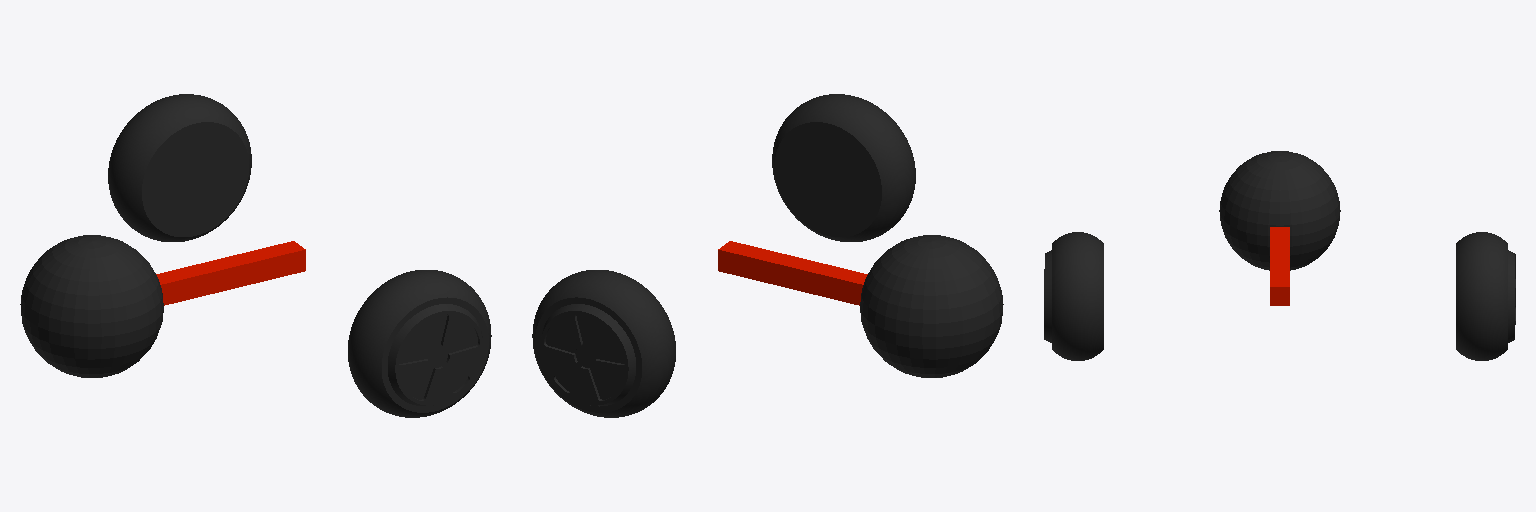
The robot description file, URDF, robot "hoverboard":
<robot name="hoverboard">
  <link name="base">
    <inertial>
      <origin rpy="0 0 0" xyz="0 0 0"/>
      <mass value="15.028392"/>
      <inertia ixx="0.0045" ixy="0" ixz="0" iyy="0.005" iyz="0" izz="0.0045" />
    </inertial>
    <visual>
    	<origin rpy="1.57 0 1.57" xyz="0 0 0"/>
      <geometry>
        <mesh filename="meshes/base.obj" scale="0.05 0.05 0.05"/>
        <!-- <box size="0.2 1.0 0.3"/> -->
      </geometry>
      <material name="scarlet">
        <color rgba="0.89 0.13 0.0 1"/>
      </material>
    </visual>
    <collision>
    	<origin rpy="1.57  0 1.57 " xyz="0 0 0"/>
      <geometry>
        <mesh filename="meshes/base.obj" scale="0.05 0.05 0.05"/>
        <!-- <box size="0.2 1.0 0.3"/> -->
      </geometry>
    </collision>
</link>

<link name="right_wheel">
    <inertial>
      <origin rpy="0 0 0" xyz="0 0 0"/>
      <mass value="4.028392"/>
      <inertia ixx="0.0045" ixy="0" ixz="0" iyy="0.005" iyz="0" izz="0.0045" />
    </inertial>
    <visual>
    	<origin rpy="1.57 0 1.57" xyz="0 0 0"/>
      <geometry>
        <mesh filename="meshes/wheel.stl" scale="0.05 0.05 0.05"/>
         <!-- <cylinder radius="0.2" length="0.1"/> -->
      </geometry>
      <material name="black">
        <color rgba="0.2 0.2 0.2 1"/>
      </material>
    </visual>
    <collision>
    	<origin rpy="1.57  0 1.57 " xyz="0 0 0"/>
      <geometry>
        <mesh filename="meshes/wheel.stl" scale="0.05 0.05 0.05"/>
        <!-- <cylinder radius="0.2" length="0.1"/> -->
      </geometry>
    </collision>
</link>

<joint name="wheelr_to_base" type="continuous">
	<origin rpy="0 0 3.14159265359" xyz="0 0 0"/>
    <axis xyz="0 1 0"/>
    <parent link="base"/>
    <child link="right_wheel"/>
    <limit effort="8.85" velocity="34.8" />
</joint>

<link name="left_wheel">
    <inertial>
      <origin rpy="0 0 0" xyz="0 0 0"/>
      <mass value="4.028392"/>
      <inertia ixx="0.0045" ixy="0" ixz="0" iyy="0.005" iyz="0" izz="0.0045" />
    </inertial>
    <visual>
    	<origin rpy="1.57 0 1.57" xyz="0 0 0"/>
      <geometry>
        <mesh filename="meshes/wheel.stl" scale="0.05 0.05 0.05"/>
         <!-- <cylinder radius="0.2" length="0.1"/> -->
      </geometry>
      <material name="black">
        <color rgba="0.2 0.2 0.2 1"/>
      </material>
    </visual>
    <collision>
    	<origin rpy="1.57  0 1.57 " xyz="0 0 0"/>
      <geometry>
        <mesh filename="meshes/wheel.stl" scale="0.05 0.05 0.05"/>
        <!-- <cylinder radius="0.2" length="0.1"/> -->
      </geometry>
    </collision>
</link>

<joint name="wheell_to_base" type="continuous">
	<origin rpy="0 0 0" xyz="0 1.0 0"/>
    <axis xyz="0 1 0"/>
    <parent link="base"/>
    <child link="left_wheel"/>
    <limit effort="8.85" velocity="34.8" />
</joint>

<link name="balance">
    <inertial>
      <origin rpy="0 0 0" xyz="0 0 0"/>
      <mass value="14.028392"/>
      <inertia ixx="0.0045" ixy="0" ixz="0" iyy="0.005" iyz="0" izz="0.0045" />
    </inertial>
    <visual>
    	<origin rpy="0 0 0" xyz="0 0 0"/>
      <geometry>
        <box size="0.5 0.05 0.05"/>
      </geometry>
      <material name="scarlet">
      </material>
    </visual>
    <collision>
    	<origin rpy="0 0 0 " xyz="0 0 0"/>
      <geometry>
        <box size="0.5 0.05 0.05"/>
      </geometry>
    </collision>
</link>

<joint name="balance_to_base" type="fixed">
	<origin rpy="0 0 0" xyz="-0.25 0.5 0"/>
	    <!-- <axis xyz="1 1 1"/> -->
    <parent link="base"/>
    <child link="balance"/>
</joint>

<link name="third_wheel">
    <inertial>
      <origin rpy="0 0 0" xyz="0 0 0"/>
      <mass value="4.028392"/>
      <inertia ixx="0.0045" ixy="0" ixz="0" iyy="0.005" iyz="0" izz="0.0045" />
    </inertial>
    <visual>
    	<origin rpy="0 0 0" xyz="0 0 0"/>
      <geometry>
        <!-- <mesh filename="meshes/wheel.stl" scale="0.05 0.05 0.05"/> -->
         <sphere radius="0.15"/>
      </geometry>
      <material name="black">
        <color rgba="0.2 0.2 0.2 1"/>
      </material>
    </visual>
    <collision>
    	<origin rpy="0 0 0" xyz="0 0 0"/>
      <geometry>
        <!-- <mesh filename="meshes/wheel.stl" scale="0.05 0.05 0.05"/> -->
        <sphere radius="0.15"/>
      </geometry>
    </collision>
</link>

<joint name="twheel_to_balance" type="fixed">
	<origin rpy="0 0 0" xyz="-0.25 0.0 0"/>
    <axis xyz="0 1 0"/>
    <parent link="balance"/>
    <child link="third_wheel"/>
    <!-- <limit effort="8.85" velocity="34.8" /> -->
    <!-- <limit effort="1.4" lower="-1.0472" upper="1.0472" velocity="12.15"/> -->
</joint>
</robot>

--- Facts derived from the render (not from the file) ---
Views: 3 orthographic renders of the robot side by side, from view 1: azimuth 30°, elevation 25°; view 2: azimuth 150°, elevation 25°; view 3: azimuth 270°, elevation 25°.
Robot: hoverboard — 5 links, 4 joints (2 continuous, 2 fixed); root link base; default pose: every joint at zero.
Links seen in each view (by area): view 1: left_wheel, right_wheel, third_wheel, balance; view 2: right_wheel, left_wheel, third_wheel, balance; view 3: third_wheel, left_wheel, right_wheel, balance.
Link boxes in pixels (x1,y1,x2,y2): left_wheel: [108, 94, 251, 241]; right_wheel: [348, 270, 491, 417]; third_wheel: [20, 235, 163, 377]; balance: [156, 241, 305, 305]; right_wheel: [772, 94, 915, 241]; left_wheel: [532, 270, 675, 417]; third_wheel: [860, 235, 1003, 377]; balance: [718, 241, 867, 305]; third_wheel: [1219, 151, 1340, 270]; left_wheel: [1456, 232, 1515, 360]; right_wheel: [1044, 232, 1103, 360]; balance: [1270, 227, 1289, 305].
Size in the robot's own frame: 0.81 by 1.17 by 0.32 metres.
2 mesh visuals loaded from 2 distinct referenced files (1 binary STL); not drawn: 1 (reference not matched to a file when rendering).